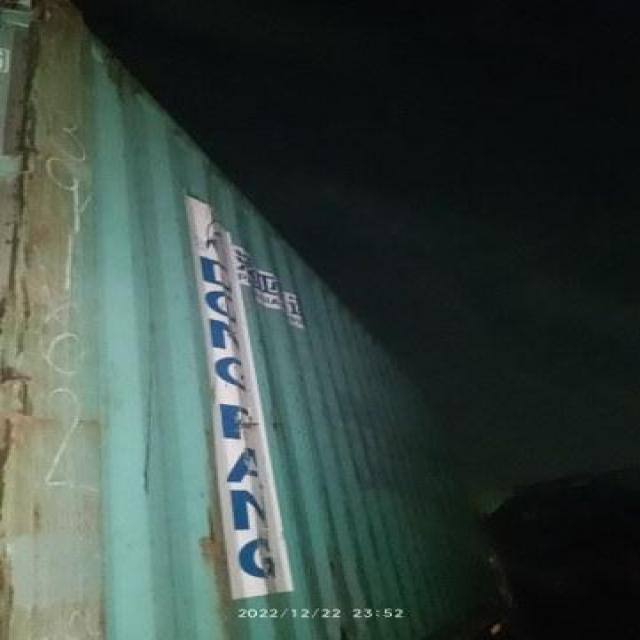rust: (8, 1, 84, 453)
